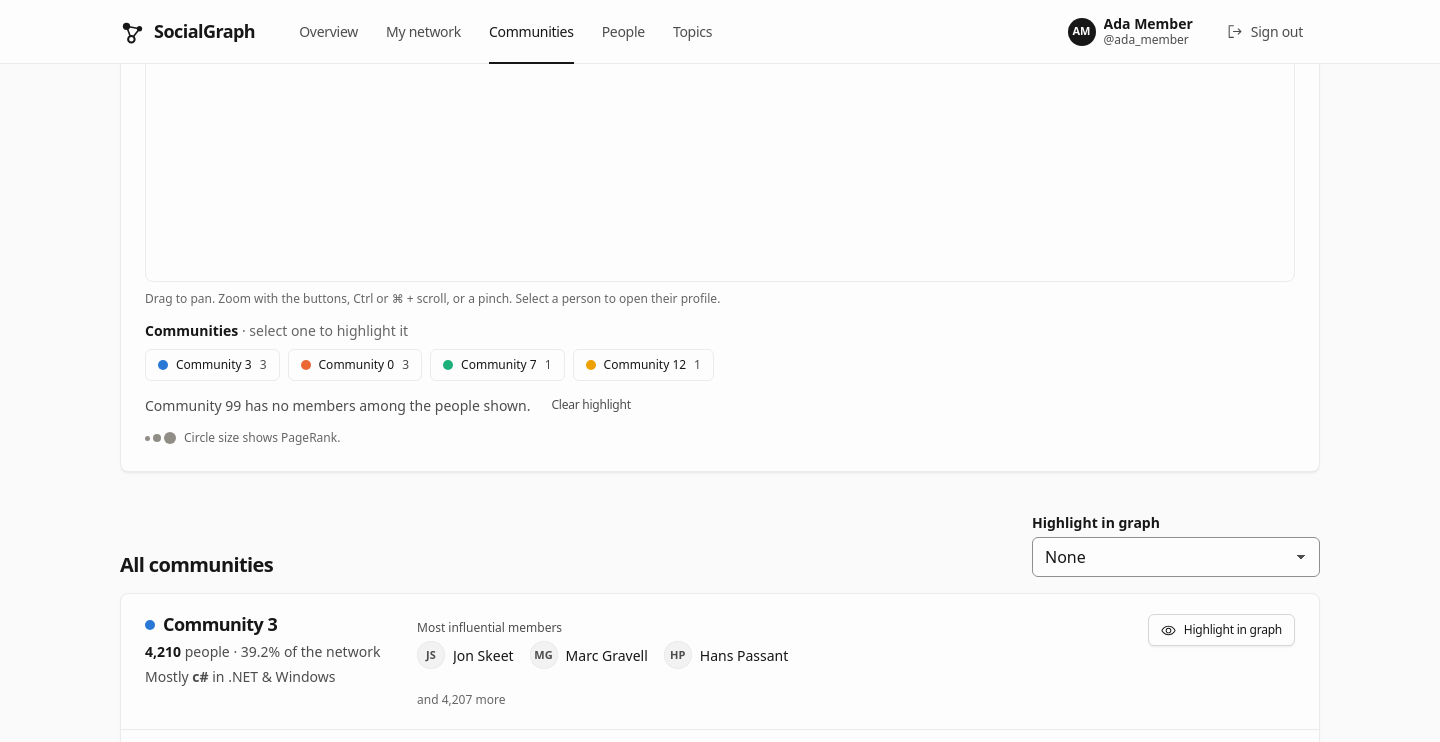
Test: Communities › says when a highlighted community has nobody in the graph
This screenshot has width=1440, height=742.
(page scrolled)
Check: the element "Community 3" is shown, box x1=121 y1=594 x2=1319 y2=730
Click the button "Clear highlight": (591, 405) x1=538 y1=389 x2=644 y2=421
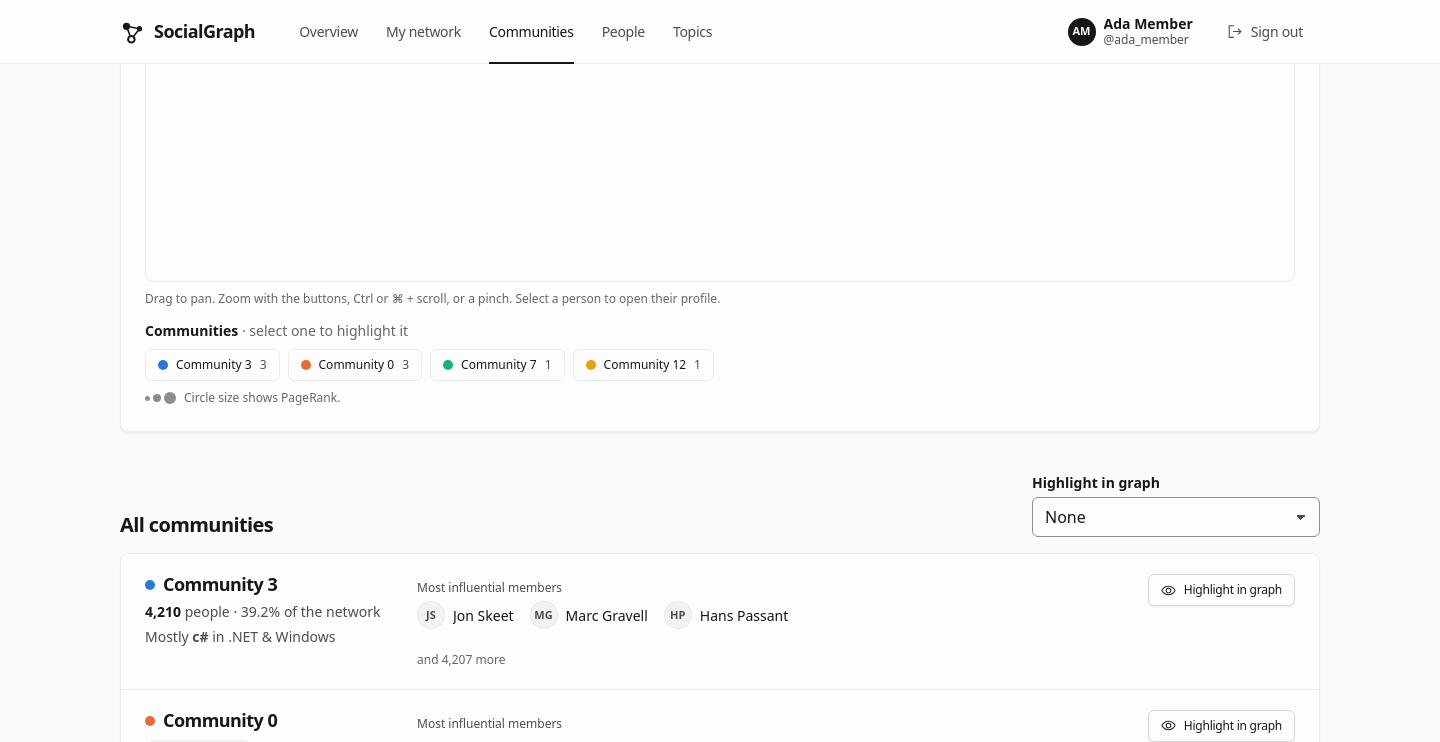
Check: the text "has no members among the people shown" is gone
